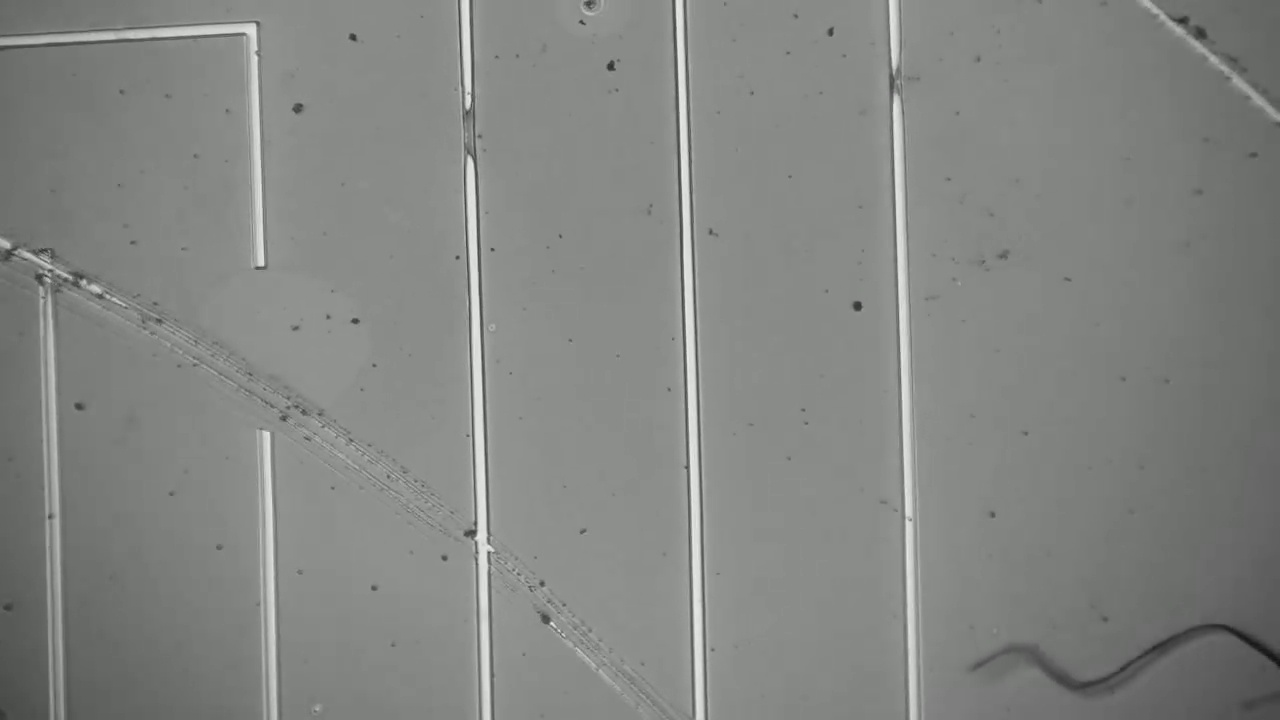gray_line: (435, 78, 497, 189), (873, 49, 920, 114)
open: (223, 202, 293, 472)
scratch: (20, 248, 687, 714), (1127, 1, 1279, 142)
